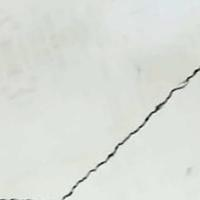crack: (61, 64, 200, 197)
